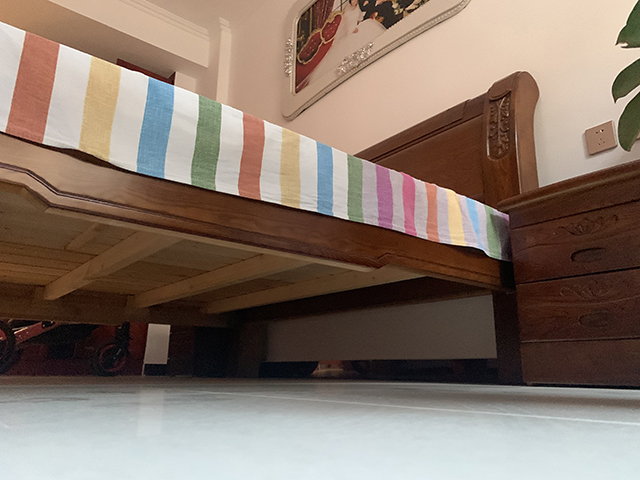bed: (1, 21, 538, 384)
cabinet: (495, 159, 640, 390)
